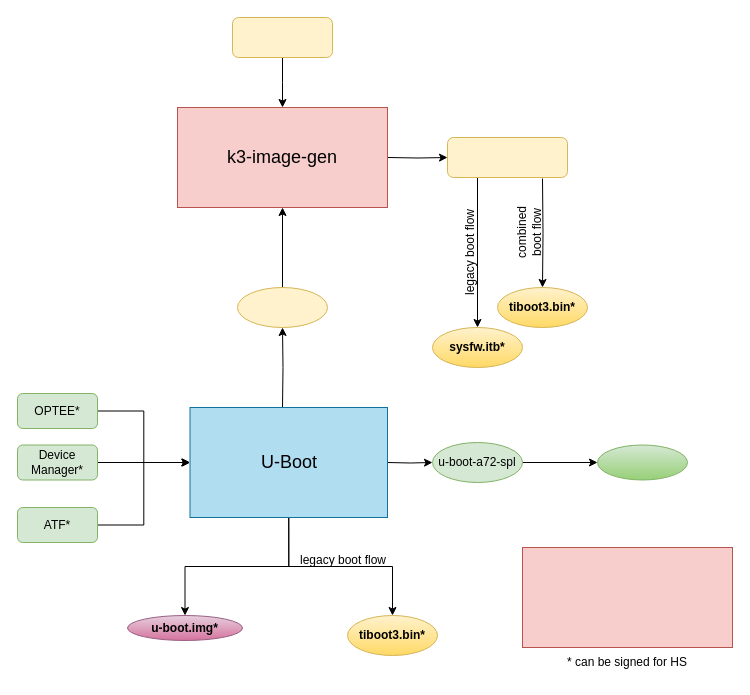
The diagram is 750 pixels wide and 695 high, and some of its shapes have lost their labels. Here are the shapes that lost their labels. From the top down, the centre of each, then its label:
At (282,37): "C board configuration files".
At (507,157): "board configuration binary artifacts".
At (282,307): "u-boot-r5-spl".
At (642,462): "tispl.bin*".
At (627,597): "core-secdev-k3".
